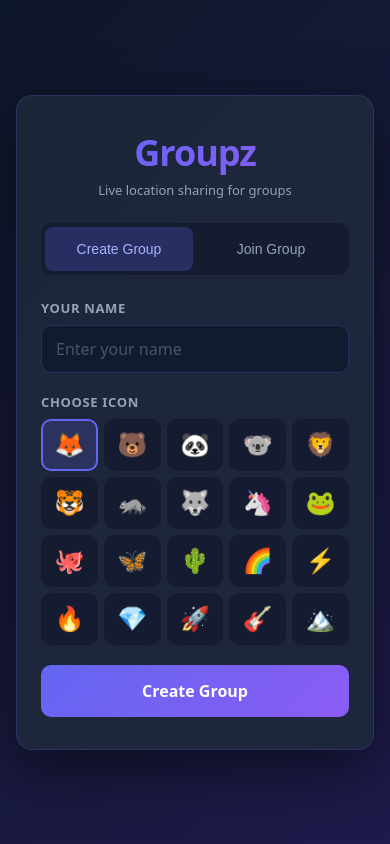
Test case: Home — tabs and validation › submitting with an empty name shows an error message
This screenshot has width=390, height=844.
Click the submit button at x=195, y=691, box [41,665,349,717]
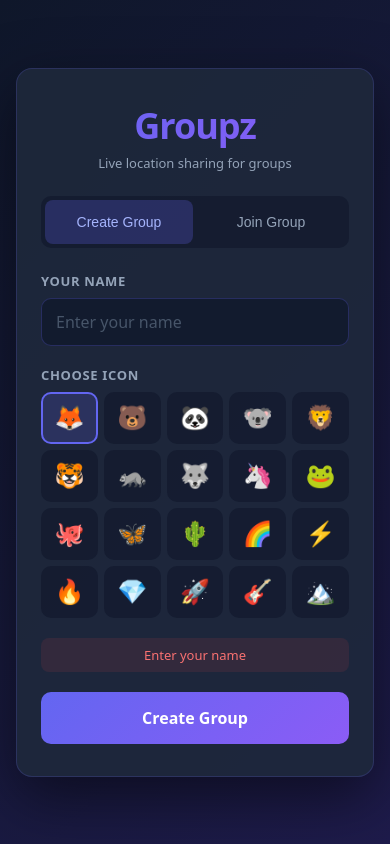
expect the submit button is enabled: met
expect the text "Enter your name" is shown: met, box [41,638,349,672]
